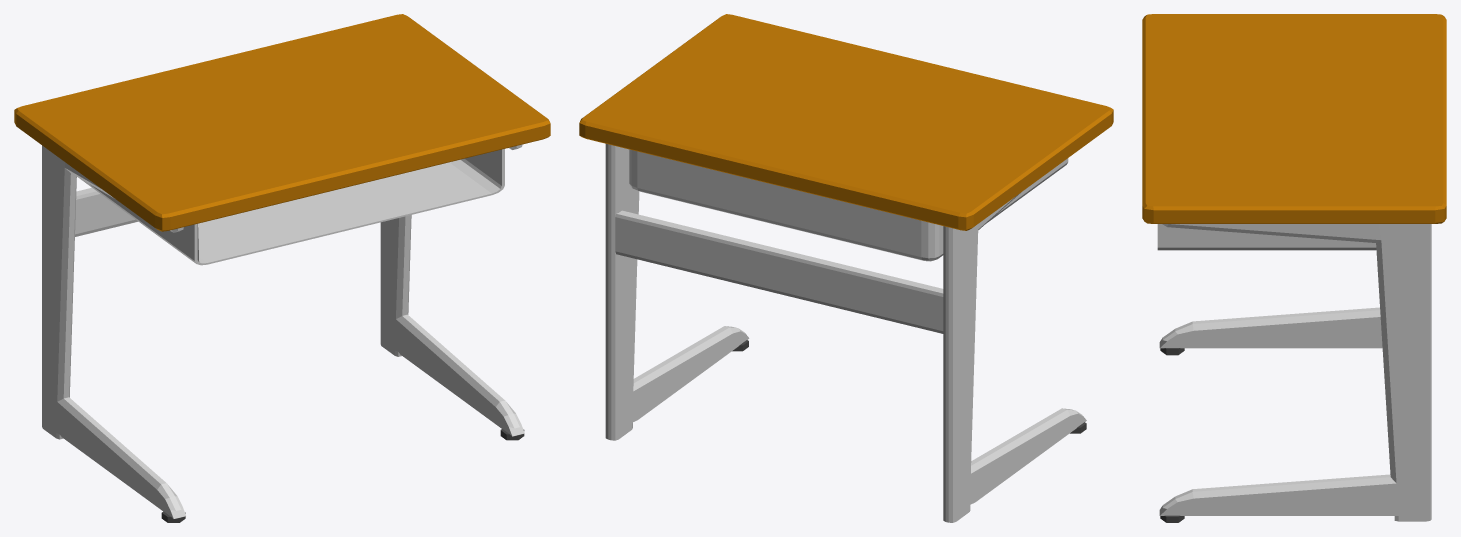
The model's file is table.glb.
3 renders of one model, left to right at view 1: azimuth 30°, elevation 25°; view 2: azimuth 150°, elevation 25°; view 3: azimuth 270°, elevation 25°, orthographic.
Visible parts, largest first — view 1: Cube, 立方体, 平面.001, 平面, 立方体.001; view 2: Cube, 立方体.001, 平面.001, 立方体, 平面; view 3: Cube, 平面, 平面.001, 立方体.
Part boxes in pixels (left/top/right/bottom): Cube: left=14, top=14, right=550, bottom=231; 立方体: left=80, top=149, right=504, bottom=265; 平面.001: left=42, top=145, right=185, bottom=518; 平面: left=380, top=144, right=524, bottom=436; 立方体.001: left=75, top=187, right=137, bottom=236; Cube: left=579, top=14, right=1113, bottom=230; 立方体.001: left=615, top=210, right=943, bottom=333; 平面.001: left=943, top=193, right=1086, bottom=522; 立方体: left=629, top=149, right=1068, bottom=261; 平面: left=605, top=144, right=749, bottom=440; Cube: left=1142, top=14, right=1446, bottom=223; 平面: left=1159, top=224, right=1431, bottom=521; 平面.001: left=1159, top=307, right=1382, bottom=348; 立方体: left=1157, top=224, right=1376, bottom=250.
Bounding box in the file's own units: 1.07 × 0.8274 × 0.7044.
